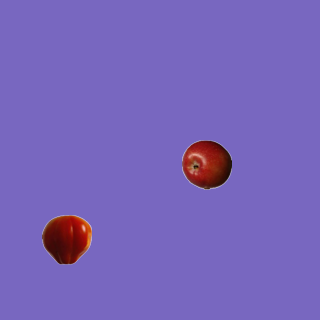Apple Braeburn: (181, 139, 231, 189)
Tomato 1: (41, 214, 91, 264)
